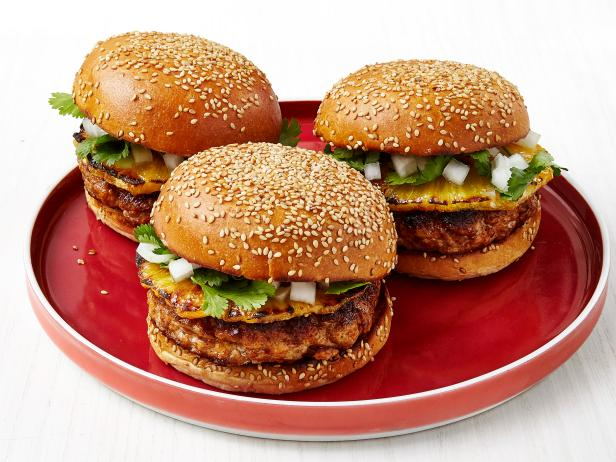hamburger: (150, 145, 417, 404), (312, 48, 570, 288), (69, 29, 285, 236)
